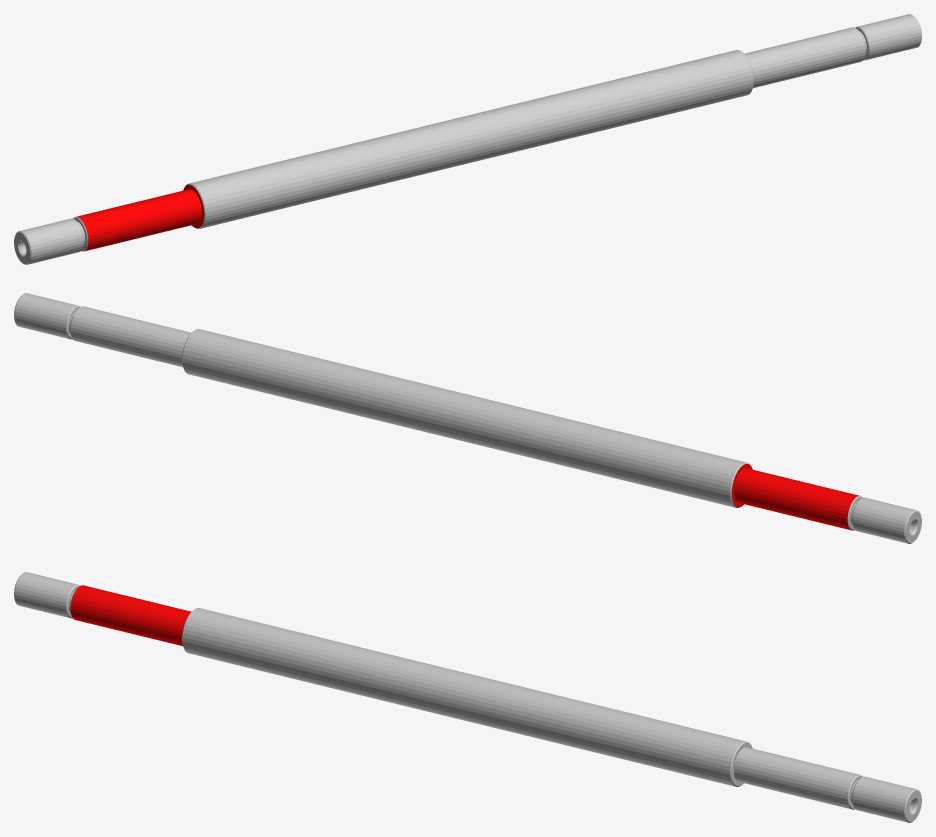
The model's file is 5_stp_6_7.obj.
The picture shows the model from 3 angles, top to bottom: view 1: azimuth 30°, elevation 25°; view 2: azimuth 150°, elevation 25°; view 3: azimuth 330°, elevation 25°; orthographic projection.
Visible parts, largest first — view 1: Object1; view 2: Object1; view 3: Object1.
Part boxes in pixels (x1,y1,x2,y2): Object1: [14, 14, 921, 264]; Object1: [14, 293, 921, 543]; Object1: [14, 572, 921, 822].
Bounding box in the file's own units: 490 × 22.22 × 22.13.
